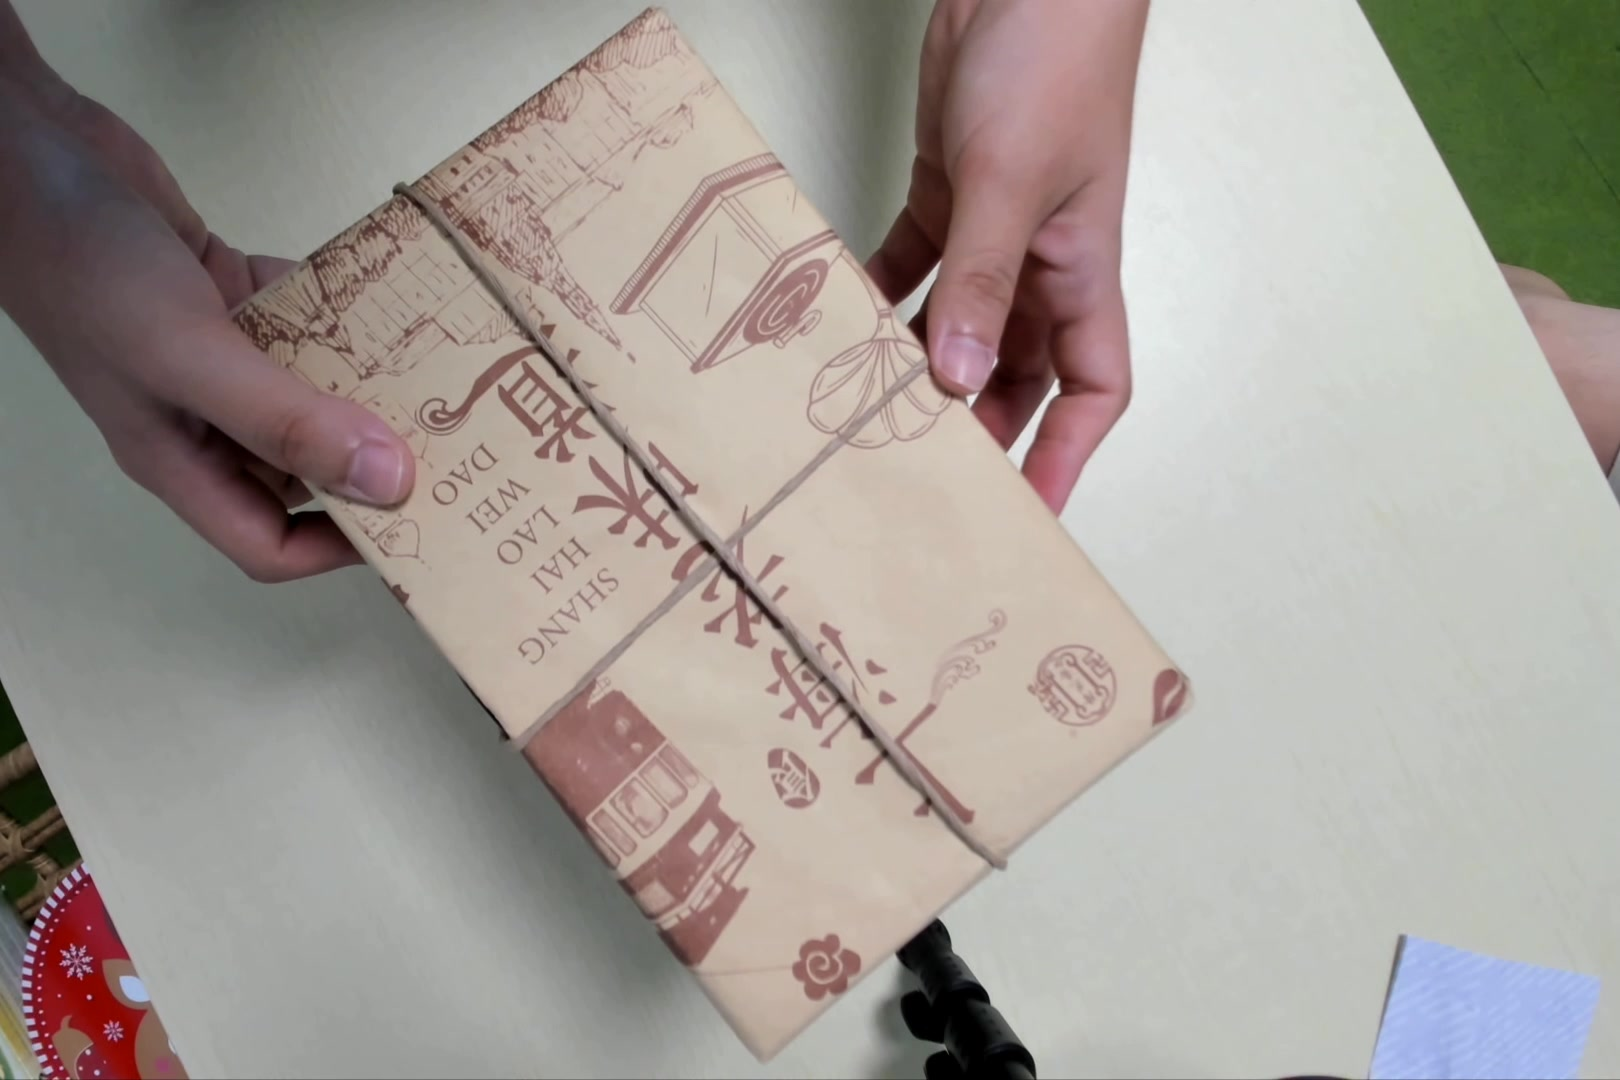BiscuitsCrackersCookies_400-499g_NonHalal_NonHealthy: (217, 23, 1192, 1070)
